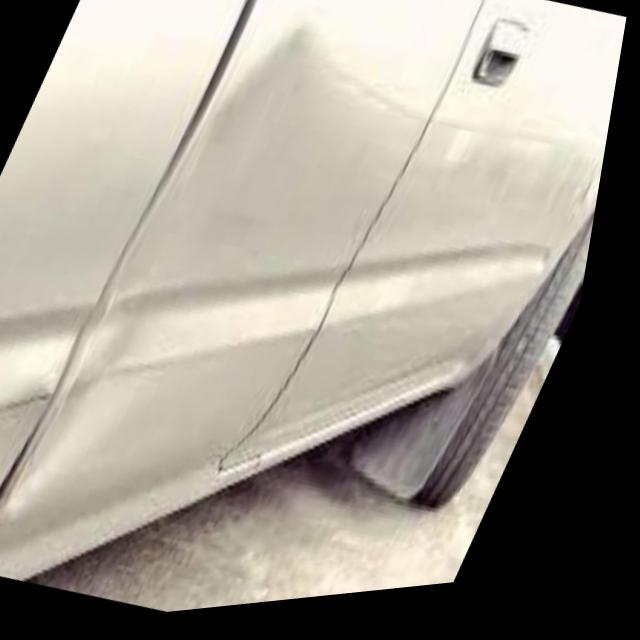dent: (6, 11, 315, 532)
